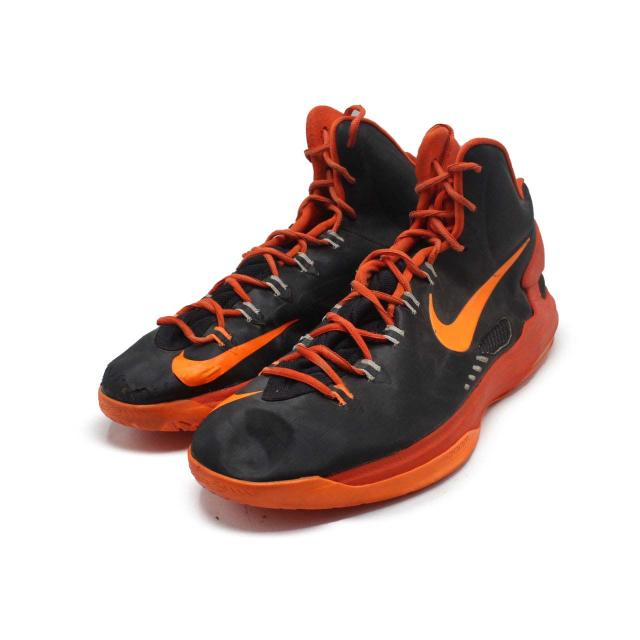midsole: (185, 294, 554, 505), (91, 389, 223, 430)
uppersole: (183, 128, 536, 477), (99, 106, 400, 407)
